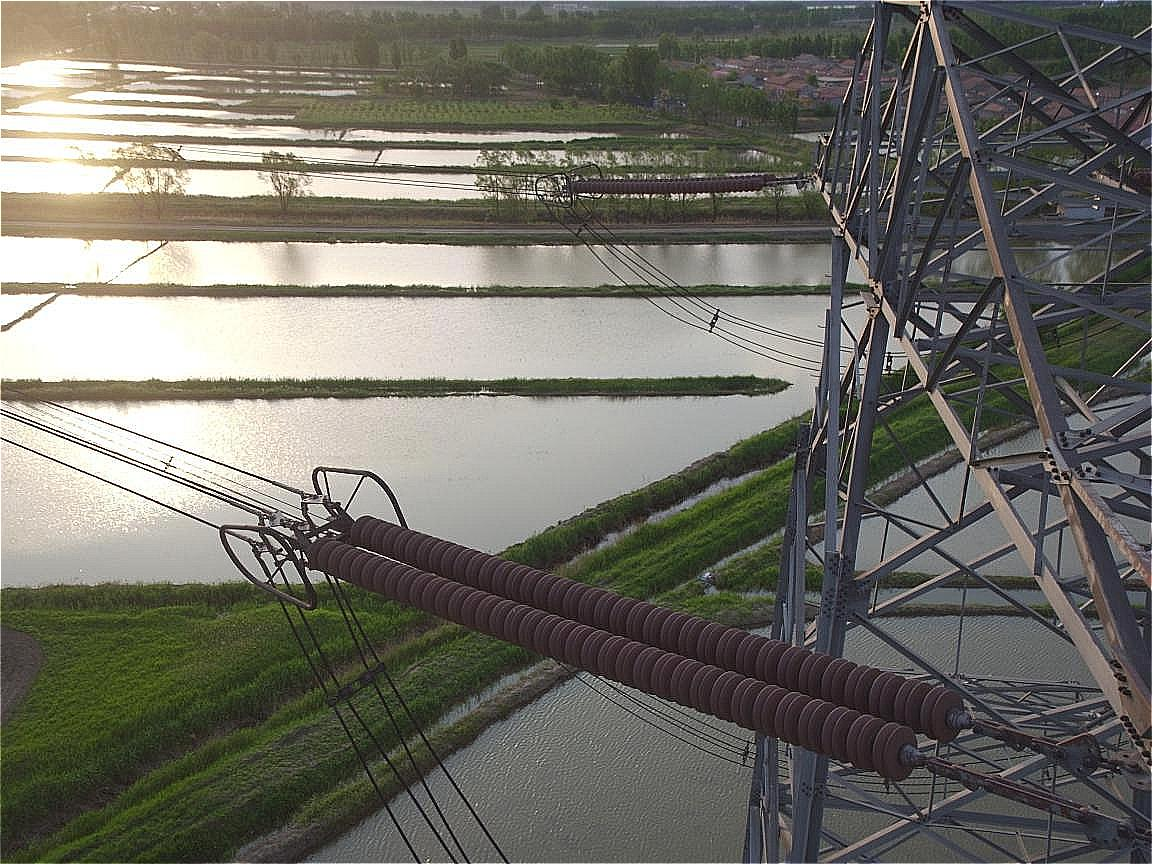insultor2: (245, 487, 982, 770)
